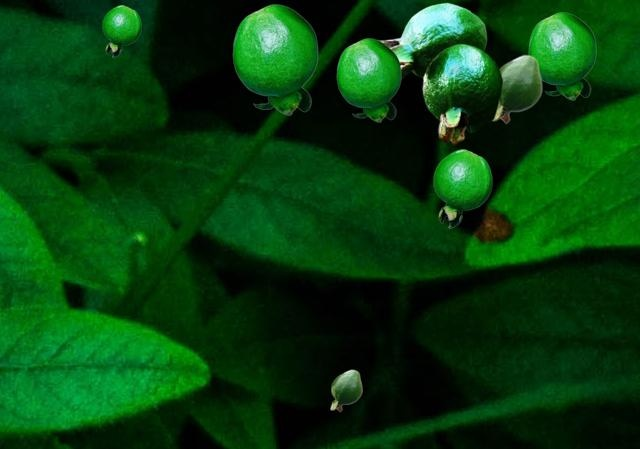guava: (232, 4, 317, 114), (379, 2, 486, 80), (422, 43, 502, 144), (528, 12, 595, 99), (336, 38, 400, 121), (433, 149, 491, 227), (493, 54, 541, 123), (102, 5, 140, 56), (330, 369, 361, 411)
